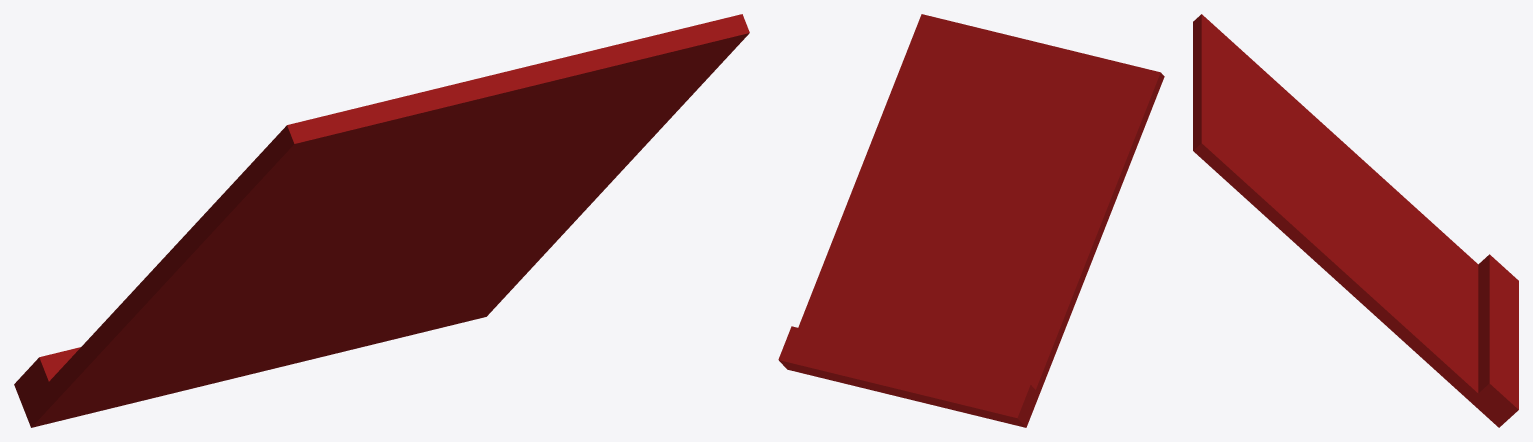
The model's file is MOD_ToitA.FBX.
The picture shows the model from 3 angles, left to right: view 1: azimuth 30°, elevation 25°; view 2: azimuth 150°, elevation 25°; view 3: azimuth 270°, elevation 25°; orthographic projection. The views are drawn at different scales.
Visible parts, largest first — view 1: MOD_toitA004; view 2: MOD_toitA004; view 3: MOD_toitA004.
Boxes of the visible parts, <box> form: MOD_toitA004: <box>14,14,749,427</box>; MOD_toitA004: <box>778,14,1164,427</box>; MOD_toitA004: <box>1193,14,1518,427</box>.
Size of the model in its own units: 1 by 1.03 by 1.07.
